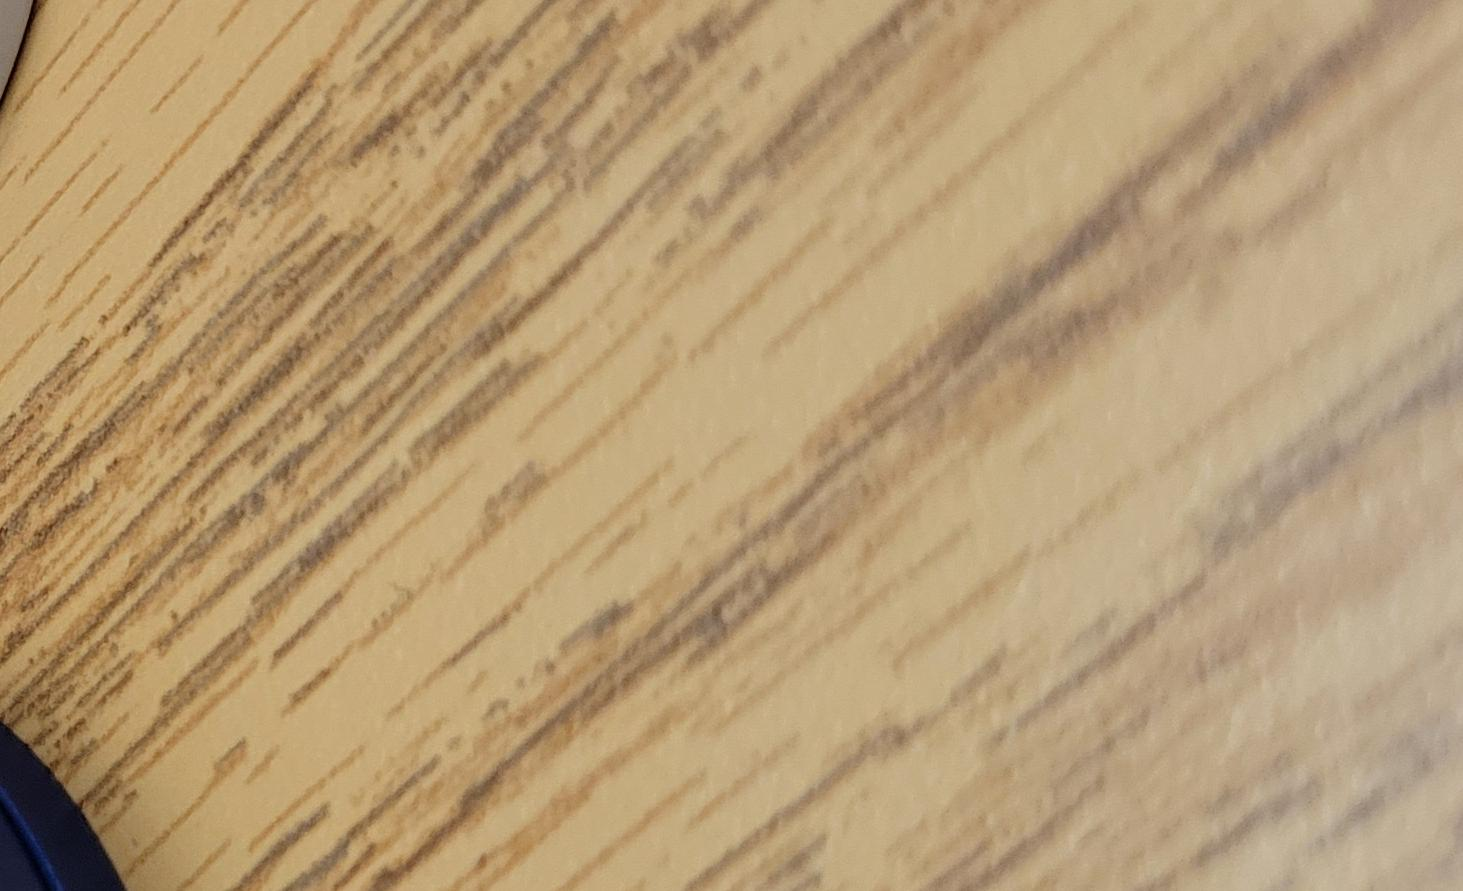Chip: (1, 304, 544, 891)
